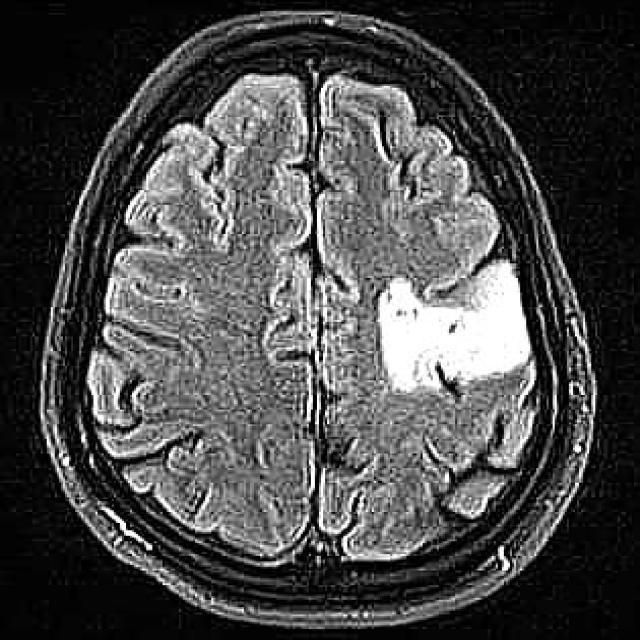brain tumor: (376, 258, 530, 391)
